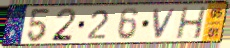2: (51, 7, 78, 43), (86, 8, 111, 40)
5: (25, 7, 53, 44)
6: (117, 6, 140, 41)
H: (174, 6, 208, 40)
V: (152, 7, 179, 40)
